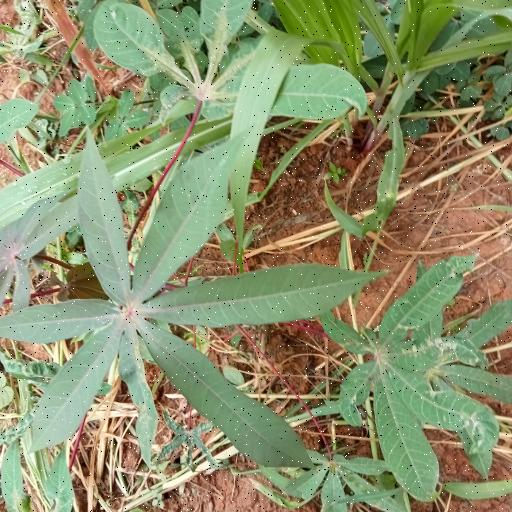Cassava_Mosaic: (5, 140, 324, 485), (306, 271, 505, 492), (96, 5, 362, 129)
